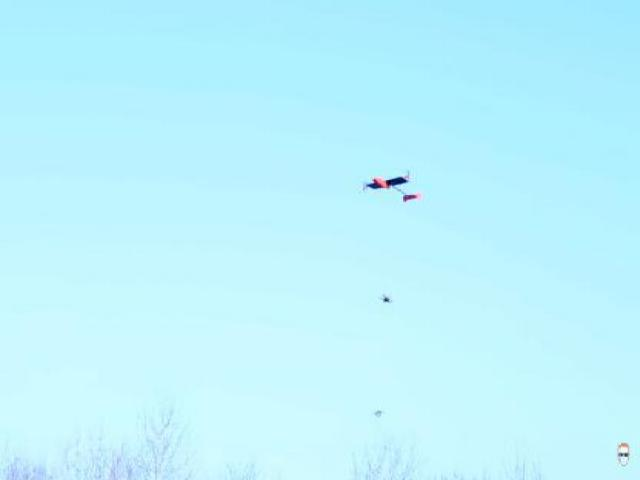uav: (357, 162, 426, 212)
